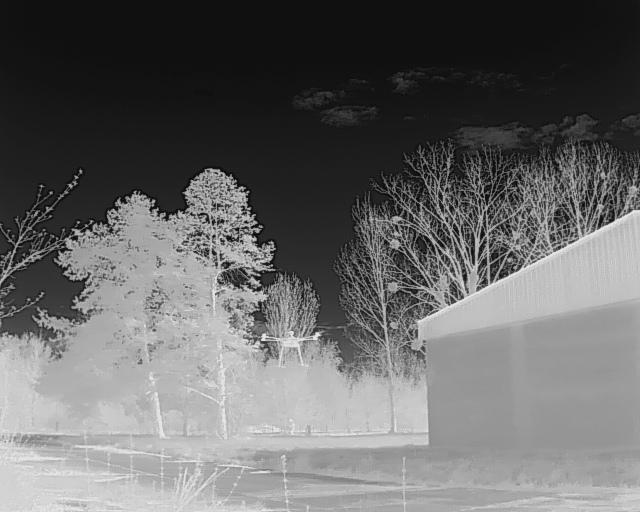drone: (252, 325, 327, 373)
